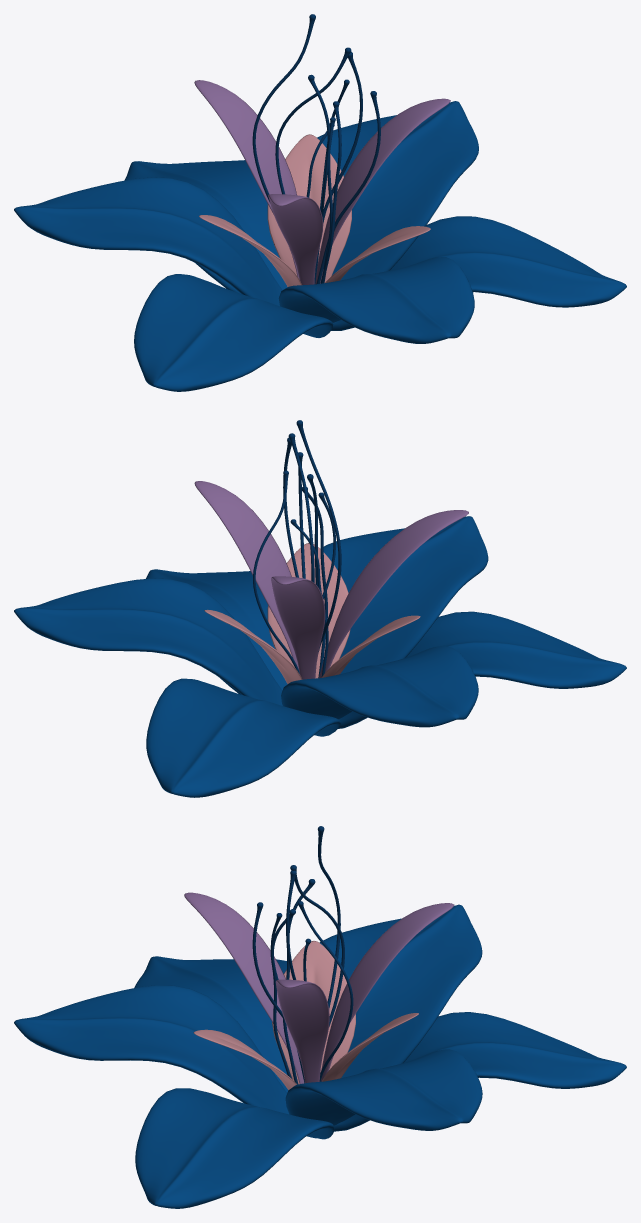
Rendered from flower.gltf.
3 views of the same model, one above another, from view 1: azimuth 30°, elevation 25°; view 2: azimuth 150°, elevation 25°; view 3: azimuth 270°, elevation 25° (orthographic).
Visible parts, largest first — view 1: Plane.007, Plane.006, Plane.003, Plane.004, Plane.005, Plane, Plane.002, Plane.010, Plane.001, Plane.011, Vert.001, Vert (+3 smaller); view 2: Plane.003, Plane, Plane.005, Plane.007, Plane.006, Plane.011, Plane.010, Plane.004, Plane.002, Plane.008, Vert, Vert.001 (+3 smaller); view 3: Plane.005, Plane.004, Plane.007, Plane.003, Plane, Plane.006, Plane.011, Plane.002, Plane.010, Plane.009, Vert.001, Vert (+3 smaller).
Part boxes in pixels (left/top/right/bottom): Plane.007: left=14, top=177, right=282, bottom=306; Plane.006: left=134, top=274, right=333, bottom=391; Plane.003: left=317, top=101, right=478, bottom=280; Plane.004: left=331, top=216, right=626, bottom=330; Plane.005: left=278, top=257, right=474, bottom=343; Plane: left=124, top=160, right=287, bottom=293; Plane.002: left=194, top=80, right=299, bottom=278; Plane.010: left=315, top=98, right=450, bottom=284; Plane.001: left=267, top=134, right=351, bottom=282; Plane.011: left=268, top=194, right=323, bottom=285; Vert.001: left=275, top=47, right=380, bottom=284; Vert: left=252, top=14, right=362, bottom=282; Plane.003: left=14, top=578, right=282, bottom=705; Plane: left=146, top=678, right=340, bottom=797; Plane.005: left=323, top=516, right=488, bottom=673; Plane.007: left=281, top=645, right=478, bottom=727; Plane.006: left=338, top=611, right=626, bottom=728; Plane.011: left=319, top=510, right=468, bottom=678; Plane.010: left=194, top=481, right=298, bottom=669; Plane.004: left=146, top=569, right=287, bottom=694; Plane.002: left=271, top=576, right=325, bottom=679; Plane.008: left=267, top=543, right=350, bottom=678; Vert: left=283, top=420, right=341, bottom=651; Vert.001: left=288, top=433, right=327, bottom=678; Plane.005: left=14, top=985, right=288, bottom=1114; Plane.004: left=135, top=1088, right=334, bottom=1208; Plane.007: left=319, top=904, right=482, bottom=1077; Plane.003: left=285, top=1049, right=482, bottom=1130; Plane: left=334, top=1012, right=626, bottom=1131; Plane.006: left=134, top=956, right=288, bottom=1092; Plane.011: left=184, top=892, right=304, bottom=1083; Plane.002: left=320, top=903, right=454, bottom=1081; Plane.010: left=275, top=979, right=329, bottom=1083; Plane.009: left=272, top=941, right=355, bottom=1084; Vert.001: left=252, top=865, right=344, bottom=1083; Vert: left=283, top=826, right=340, bottom=1084.
Size of the model in its own units: 6.19 by 3.81 by 6.95.
